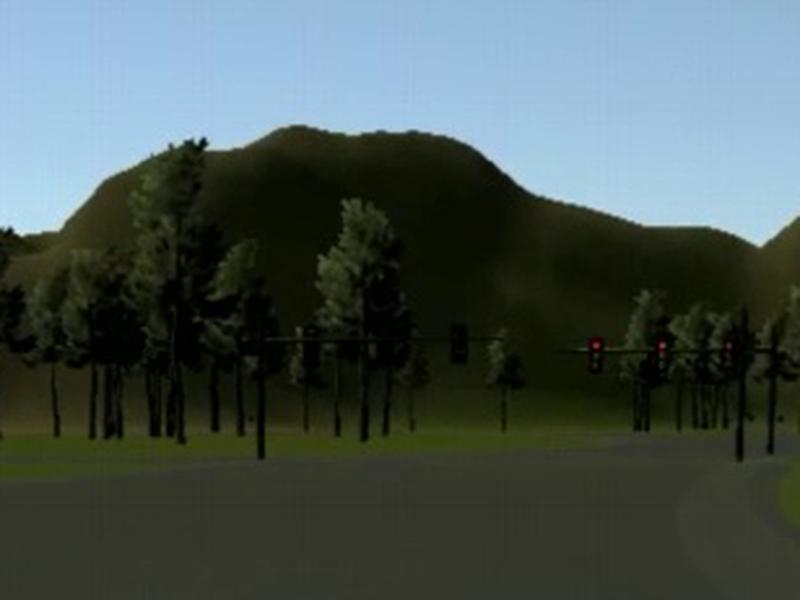Red: (652, 338, 670, 371), (588, 338, 604, 374), (720, 339, 736, 372)
